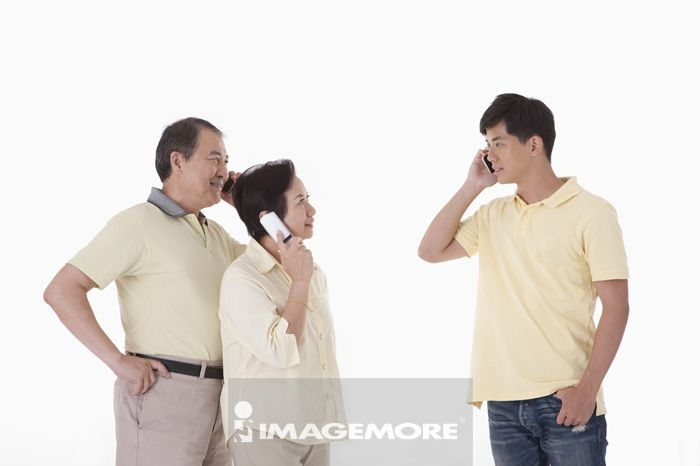phone: (262, 212, 298, 256)
talk: (261, 188, 318, 287), (466, 128, 513, 196), (202, 146, 240, 209)
